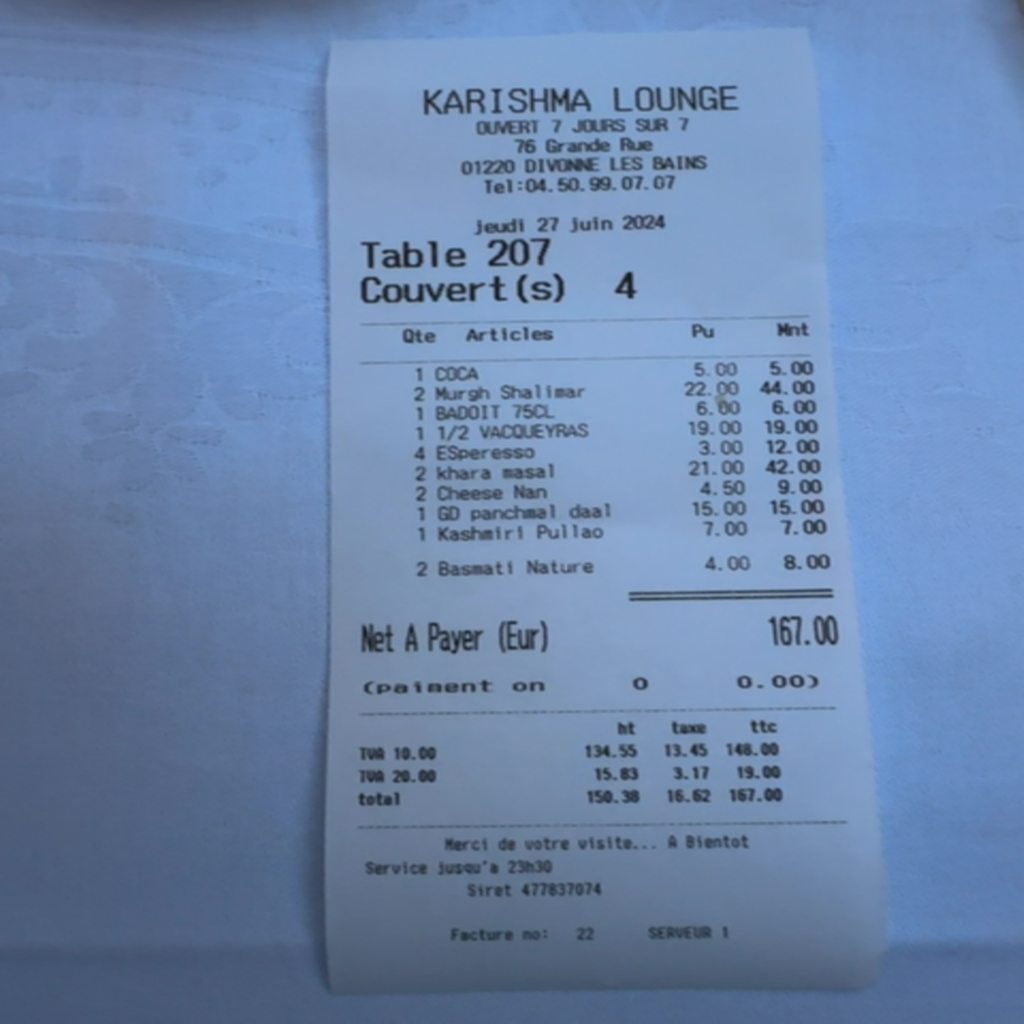recipt: (323, 27, 882, 992)
